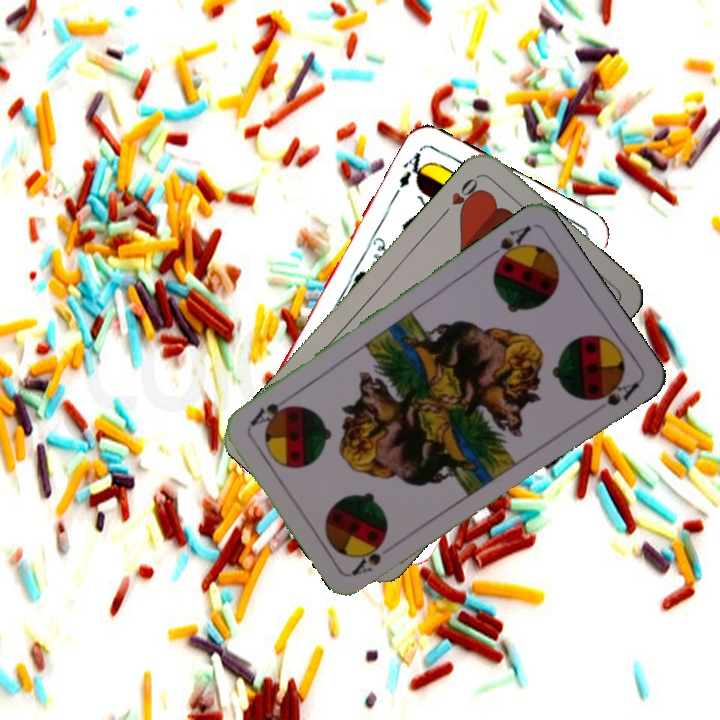EA: (395, 143, 431, 191)
HO: (436, 172, 484, 220)
SA: (482, 221, 534, 270), (348, 538, 401, 578)
